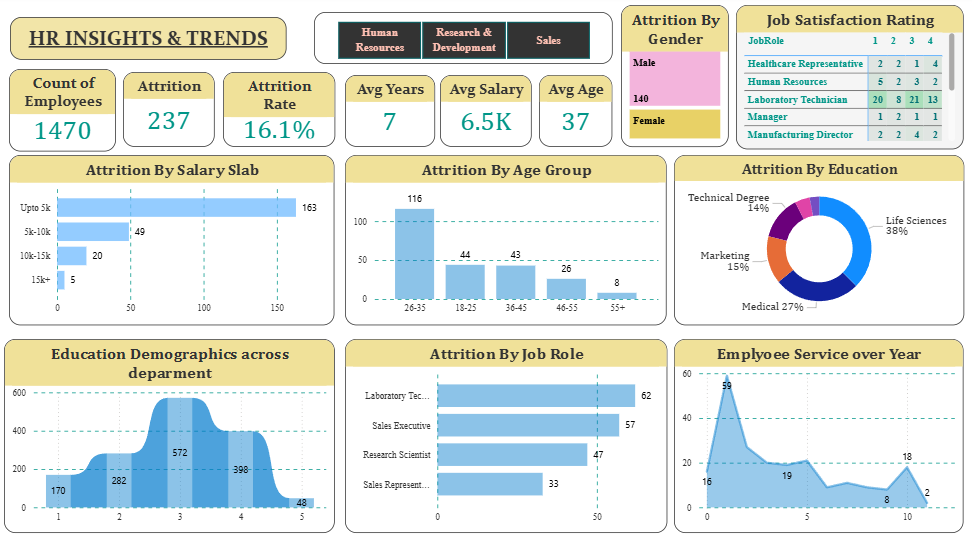

This screenshot's page, from the dashboard's own definition file:
{"tool":"powerbi","page":{"name":"Page 1","canvas":[1280,720],"ordinal":0},"visuals":[{"type":"card","title":"Count of Employees","fields":{"Values":["CountNonNull(HR_Analytics.EmpID)"]},"box":[15.6,95,140.3,107.7],"z":0},{"type":"card","title":"Attrition","fields":{"Values":["Sum(HR_Analytics.Attrition_count)"]},"box":[164.4,99.2,120.5,97.8],"z":1000},{"type":"card","title":"Attrition Rate","fields":{"Values":["HR_Analytics.Attrition_rate"]},"box":[295.9,99.1,147.3,97.7],"z":2000},{"type":"card","title":"Avg Age","fields":{"Values":["Avg(HR_Analytics.Age)"]},"box":[710.1,103.5,96.4,93.5],"z":3000},{"type":"card","title":"Avg Salary","fields":{"Values":["Avg(HR_Analytics.MonthlyIncome)"]},"box":[579.7,103.5,120.5,93.5],"z":4000},{"type":"card","title":"Avg Years","fields":{"Values":["Avg(HR_Analytics.YearsAtCompany)"]},"box":[455,103.5,117.6,93.5],"z":5000},{"type":"donutChart","title":"Attrition By Education","fields":{"Category":["HR_Analytics.EducationField"],"Y":["Sum(HR_Analytics.Attrition_count)"]},"box":[886,208.4,380.2,222.7],"z":6000},{"type":"columnChart","title":"Attrition By Age Group","fields":{"Category":["HR_Analytics.AgeGroup"],"Y":["Sum(HR_Analytics.Attrition_count)"]},"box":[455,208.3,420.9,222.5],"z":7000},{"type":"pivotTable","title":"Job Satisfaction Rating","fields":{"Rows":["HR_Analytics.JobRole"],"Columns":["HR_Analytics.JobSatisfaction"],"Values":["Sum(HR_Analytics.Attrition_count)"]},"box":[967.7,11.5,298.1,188.6],"z":8000},{"type":"barChart","title":"Attrition By Salary Slab","fields":{"Category":["HR_Analytics.SalarySlab"],"Y":["Sum(HR_Analytics.Attrition_count)"]},"box":[15.9,208.4,426.3,222.7],"z":9000},{"type":"barChart","title":"Attrition By Job Role","fields":{"Category":["HR_Analytics.JobRole"],"Y":["Sum(HR_Analytics.Attrition_count)"]},"box":[454.9,448.6,421.5,254.5],"z":10000},{"type":"areaChart","title":"Emplyoee Service over Year","fields":{"Category":["HR_Analytics.YearsAtCompany"],"Y":["Sum(HR_Analytics.Attrition_count)"]},"box":[886,448.6,378.6,254.5],"z":11000},{"type":"treemap","title":"Attrition By Gender","fields":{"Group":["HR_Analytics.Gender"],"Values":["Sum(HR_Analytics.Attrition_count)"]},"box":[816.5,11.5,141.1,185.8],"z":12000},{"type":"slicer","fields":{"Values":["HR_Analytics.Department"]},"box":[415.1,20.7,391.3,68.4],"z":13000},{"type":"textbox","box":[16.5,27.5,362,56.4],"z":14000},{"type":"ribbonChart","title":"Education Demographics across deparment","fields":{"Category":["HR_Analytics.Education"],"Y":["CountNonNull(HR_Analytics.Department)"]},"box":[9.5,448.6,432.6,254.5],"z":15000}]}

Visuals, with their boxes in screenshot pixels (x1, y1, x2, y2), scaled from the page's 1280x720 canvas onto the 972x539 screenshot:
"Count of Employees" card: rect(12, 71, 118, 152)
"Attrition" card: rect(125, 74, 216, 147)
"Attrition Rate" card: rect(225, 74, 337, 147)
"Avg Age" card: rect(539, 77, 612, 147)
"Avg Salary" card: rect(440, 77, 532, 147)
"Avg Years" card: rect(346, 77, 435, 147)
"Attrition By Education" donutChart: rect(673, 156, 962, 323)
"Attrition By Age Group" columnChart: rect(346, 156, 665, 323)
"Job Satisfaction Rating" pivotTable: rect(735, 9, 961, 150)
"Attrition By Salary Slab" barChart: rect(12, 156, 336, 323)
"Attrition By Job Role" barChart: rect(345, 336, 666, 526)
"Emplyoee Service over Year" areaChart: rect(673, 336, 960, 526)
"Attrition By Gender" treemap: rect(620, 9, 727, 148)
slicer - HR_Analytics.Department: rect(315, 15, 612, 67)
textbox: rect(13, 21, 287, 63)
"Education Demographics across deparment" ribbonChart: rect(7, 336, 336, 526)
